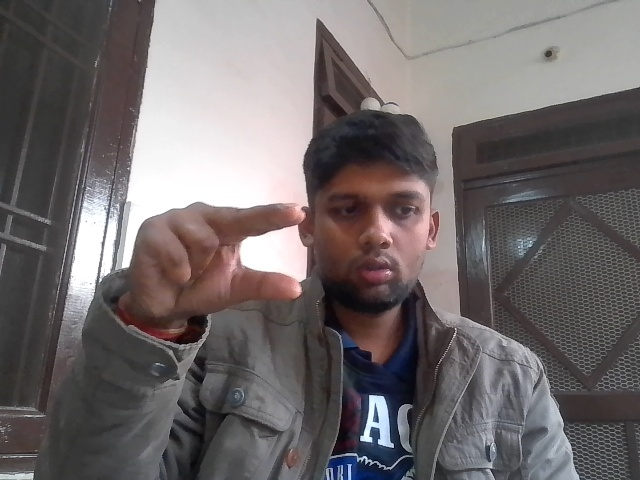No: (120, 204, 331, 308)
